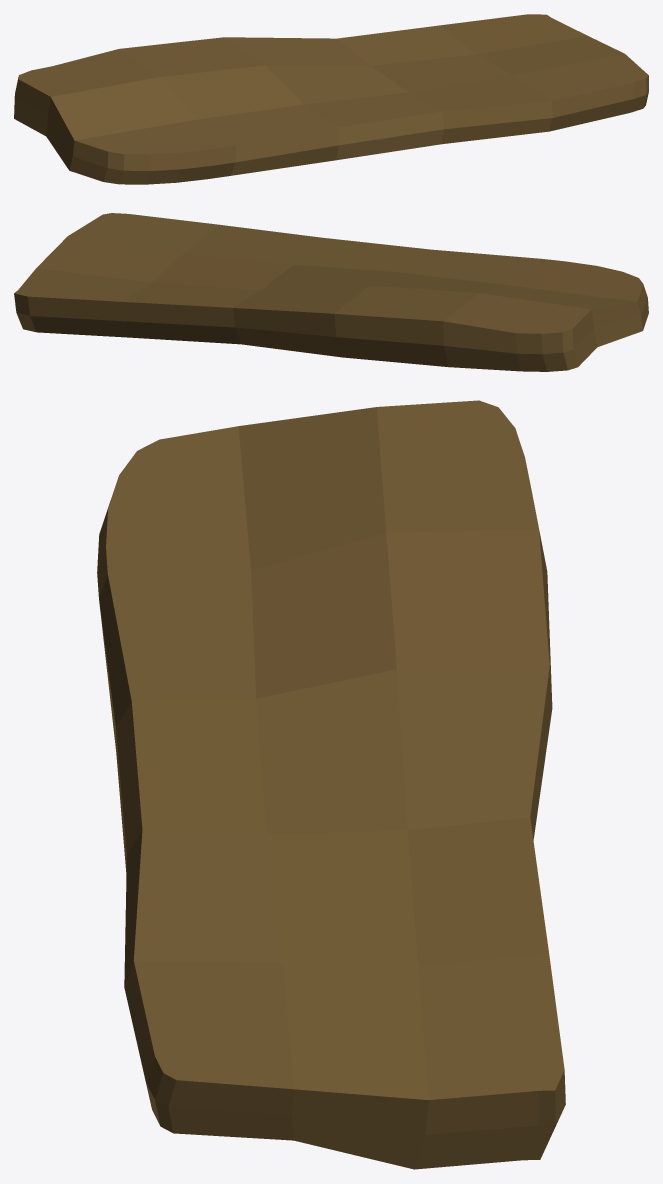
Rendered from Wood.fbx.
The picture shows the model from 3 angles, top to bottom: view 1: azimuth 30°, elevation 25°; view 2: azimuth 150°, elevation 25°; view 3: azimuth 270°, elevation 25°; orthographic projection. The views are drawn at different scales.
Visible parts, largest first — view 1: Cube.004; view 2: Cube.004; view 3: Cube.004.
Boxes of the visible parts, box(x1,y1,x2,y2) form: Cube.004: box(14, 14, 648, 184); Cube.004: box(14, 213, 648, 371); Cube.004: box(97, 400, 565, 1169).
Bounding box in the file's own units: 90.07 × 18.3 × 32.56.
